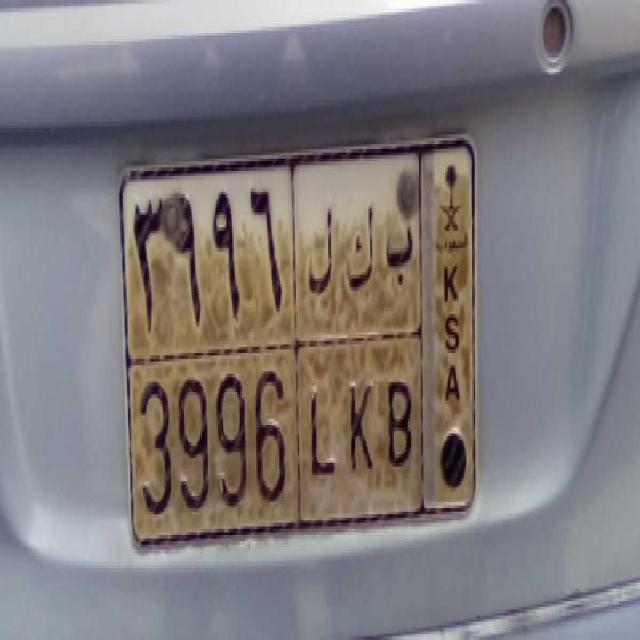license_plate: (133, 342, 418, 539)
